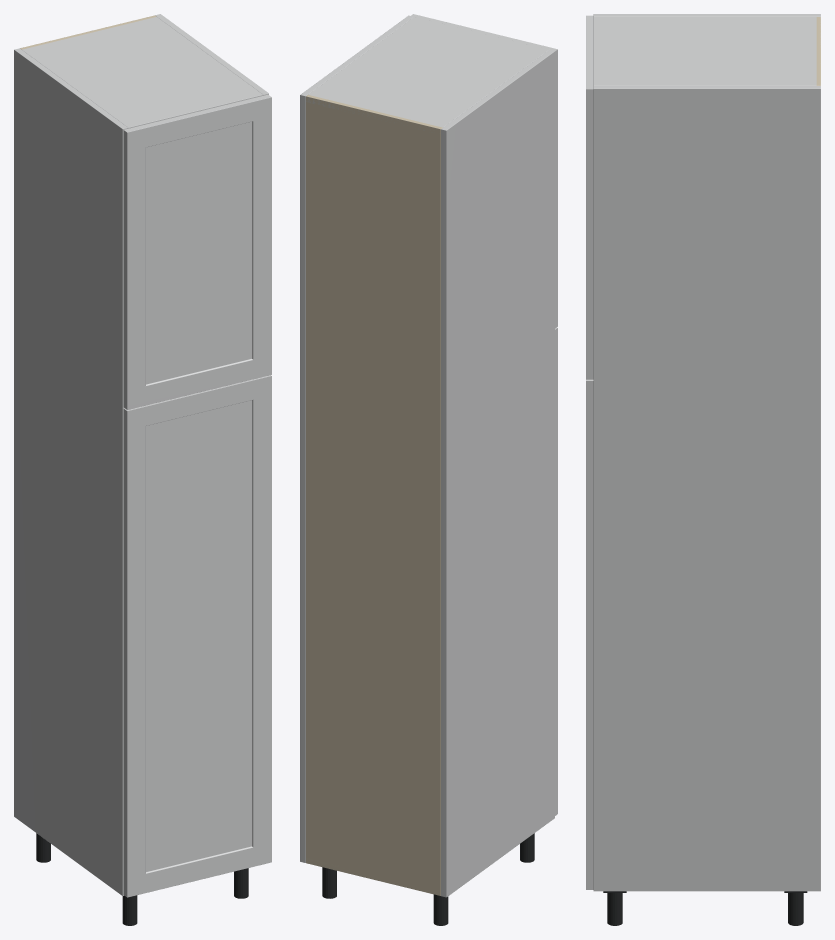
Rendered from PLY-WSS-PC1890.glb.
3 renders of one model, left to right at view 1: azimuth 30°, elevation 25°; view 2: azimuth 150°, elevation 25°; view 3: azimuth 270°, elevation 25°, orthographic. The views are drawn at different scales.
Parts seen in each view (by area): view 1: Carcass left, Shaker door, Shaker door.001, Carcass top, Carcass right; view 2: Carcass back, Carcass left, Carcass top, Carcass right, Shaker door, Shaker door.001; view 3: Carcass right, Carcass top, Shaker door, Shaker door.001, Carcass left, Adjustable foot.002, Adjustable foot.003.
Part boxes in pixels (x1=…): Carcass left: x1=14, y1=48, x2=128, y2=895; Shaker door: x1=123, y1=375, x2=271, y2=897; Shaker door.001: x1=123, y1=94, x2=271, y2=409; Carcass top: x1=22, y1=17, x2=263, y2=128; Carcass right: x1=155, y1=14, x2=268, y2=95; Carcass back: x1=306, y1=95, x2=442, y2=895; Carcass left: x1=441, y1=50, x2=554, y2=897; Carcass top: x1=306, y1=17, x2=548, y2=130; Carcass right: x1=300, y1=15, x2=413, y2=862; Shaker door: x1=555, y1=327, x2=557, y2=815; Shaker door.001: x1=411, y1=14, x2=557, y2=328; Carcass right: x1=593, y1=86, x2=820, y2=891; Carcass top: x1=593, y1=17, x2=820, y2=85; Shaker door: x1=586, y1=379, x2=593, y2=889; Shaker door.001: x1=586, y1=15, x2=593, y2=379; Carcass left: x1=593, y1=14, x2=820, y2=16; Adjustable foot.002: x1=788, y1=893, x2=803, y2=925; Adjustable foot.003: x1=607, y1=893, x2=622, y2=925.
Bounding box in the file's own units: 0.4572 × 2.4 × 0.6064.
